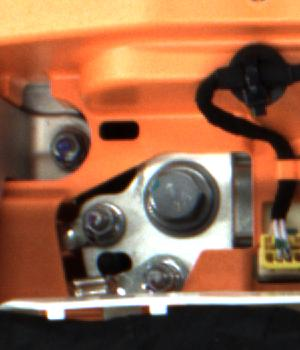nut_b: (139, 157, 229, 234)
